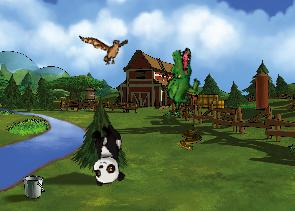crocodile: (155, 45, 207, 113)
eagle: (79, 25, 132, 70)
panda: (87, 123, 126, 186)
